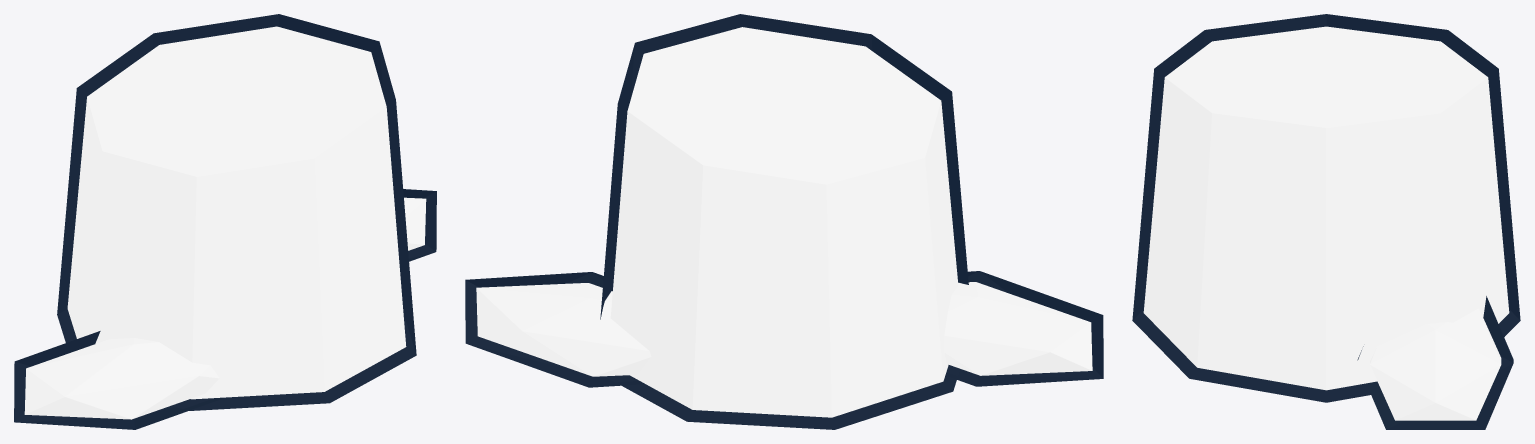
The model's file is stump.glb.
3 renders of one model, left to right at view 1: azimuth 30°, elevation 25°; view 2: azimuth 150°, elevation 25°; view 3: azimuth 270°, elevation 25°, orthographic. The views are drawn at different scales.
Visible parts, largest first — view 1: Body, Outline; view 2: Body, Outline; view 3: Body, Outline.
Boxes of the visible parts, x1,y1,x2,y2 form: Body: (24, 26, 426, 419); Outline: (14, 14, 436, 429); Body: (476, 27, 1092, 417); Outline: (465, 14, 1103, 429); Body: (1143, 26, 1509, 420); Outline: (1132, 14, 1520, 429).
Bounding box in the file's own units: 28.33 × 14.46 × 17.69.
